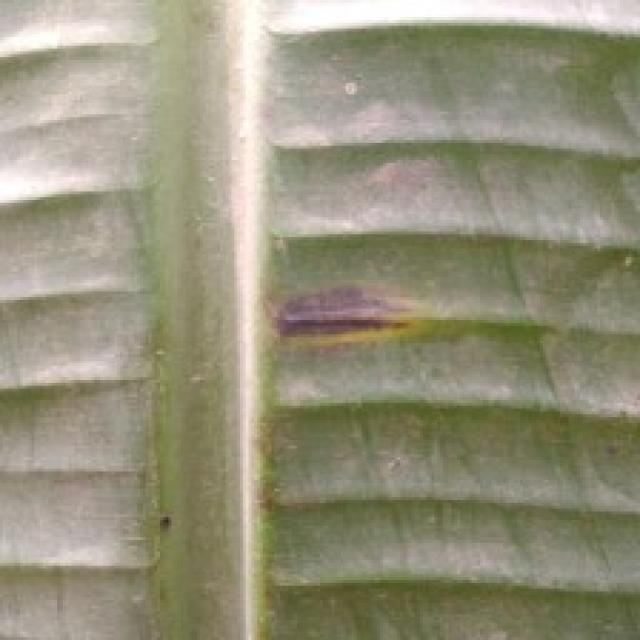Early_leaf_spot: (258, 262, 434, 363)
